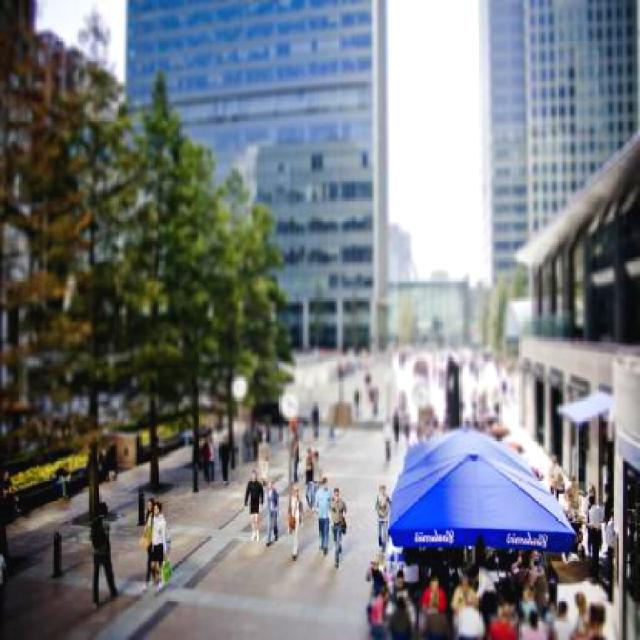Person: (364, 383, 618, 639), (92, 501, 120, 613), (150, 500, 170, 594), (327, 488, 350, 562), (315, 474, 333, 554), (244, 469, 264, 538), (288, 485, 304, 563), (266, 480, 280, 546), (99, 448, 121, 486), (1, 474, 21, 512), (218, 436, 232, 488), (312, 450, 324, 507), (258, 434, 272, 478), (56, 458, 72, 496), (199, 437, 210, 485), (207, 428, 216, 482), (310, 404, 322, 434), (294, 435, 302, 479), (326, 408, 337, 438), (306, 452, 310, 510), (2, 549, 6, 589)
